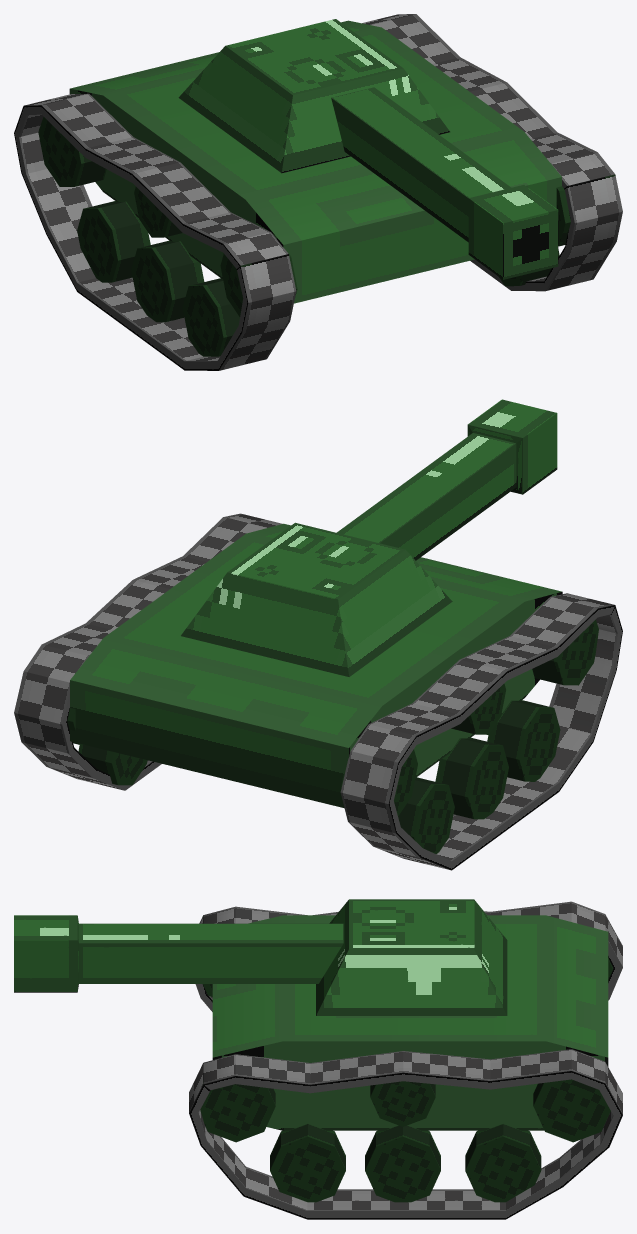
File: Tank.fbx
3 views of the same model, one above another, from view 1: azimuth 30°, elevation 25°; view 2: azimuth 150°, elevation 25°; view 3: azimuth 270°, elevation 25° (orthographic). The views are drawn at different scales.
Visible parts, largest first — view 1: pCube6; view 2: pCube6; view 3: pCube6.
Part boxes in pixels (x1,y1,x2,y2): pCube6: (14,14,622,370); pCube6: (14,399,622,870); pCube6: (14,899,622,1219).
Bounding box in the file's own units: 3.52 × 5.35 × 2.04.
